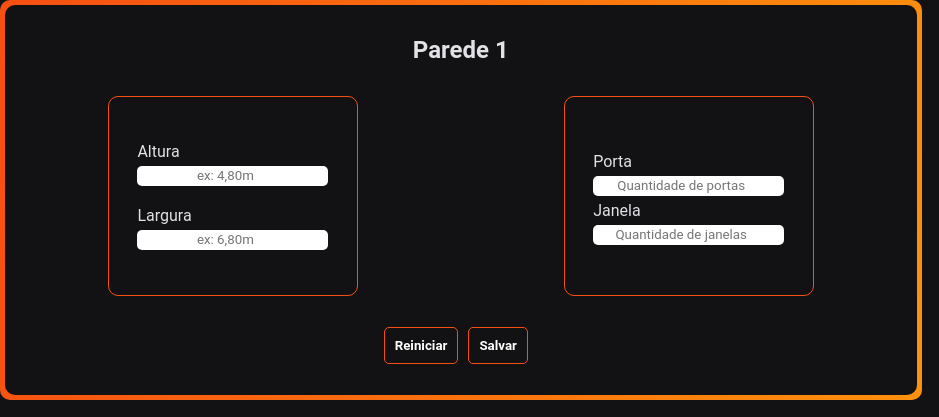
Scenario: Verifica se as mensagens de erro são renderizadas › Verifica se a mensagem de erro de Altura aparece, ao clicar no botão salvar sem preencher os campos
Click the button "Salvar" at {"x": 498, "y": 345}, box [468,327,528,364]
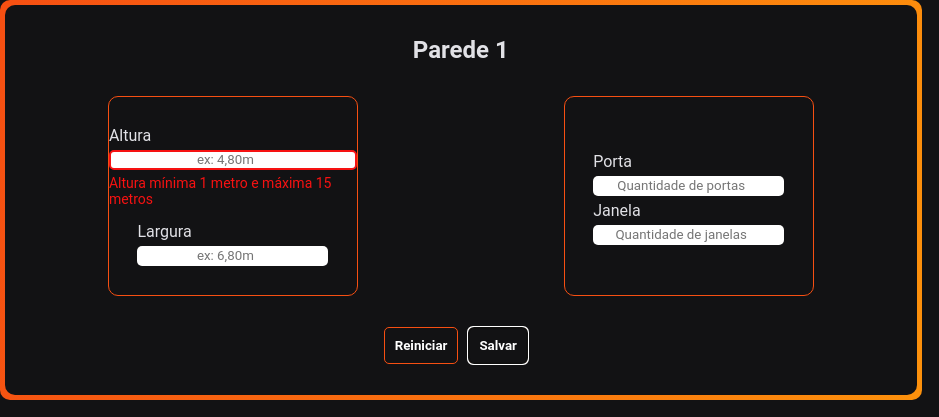
Expected: the text "Altura mínima 1 metro e máxima 15 metros" is shown, [109,174,357,206]
